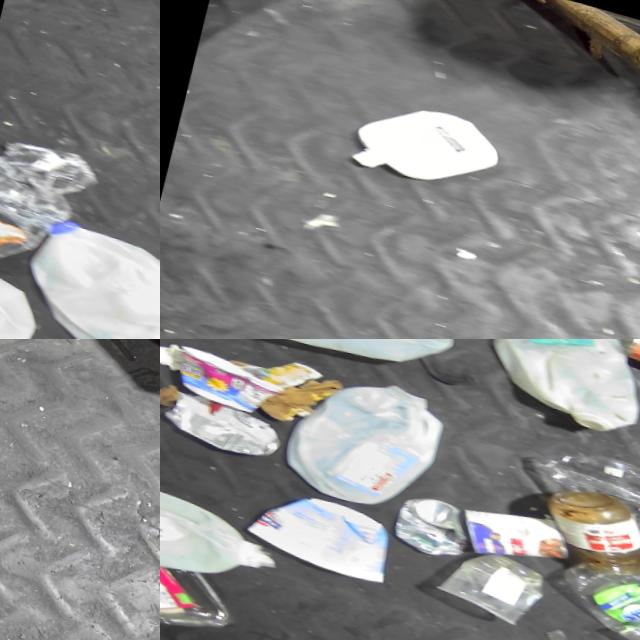can: (476, 339, 640, 433), (455, 488, 580, 572), (160, 383, 287, 461), (393, 484, 478, 559)
milk_jug: (278, 355, 451, 518), (341, 81, 509, 200), (18, 211, 160, 339), (160, 472, 289, 597), (219, 339, 464, 379), (0, 251, 50, 339), (160, 373, 173, 464)
plastic_bottle: (553, 544, 640, 640)
